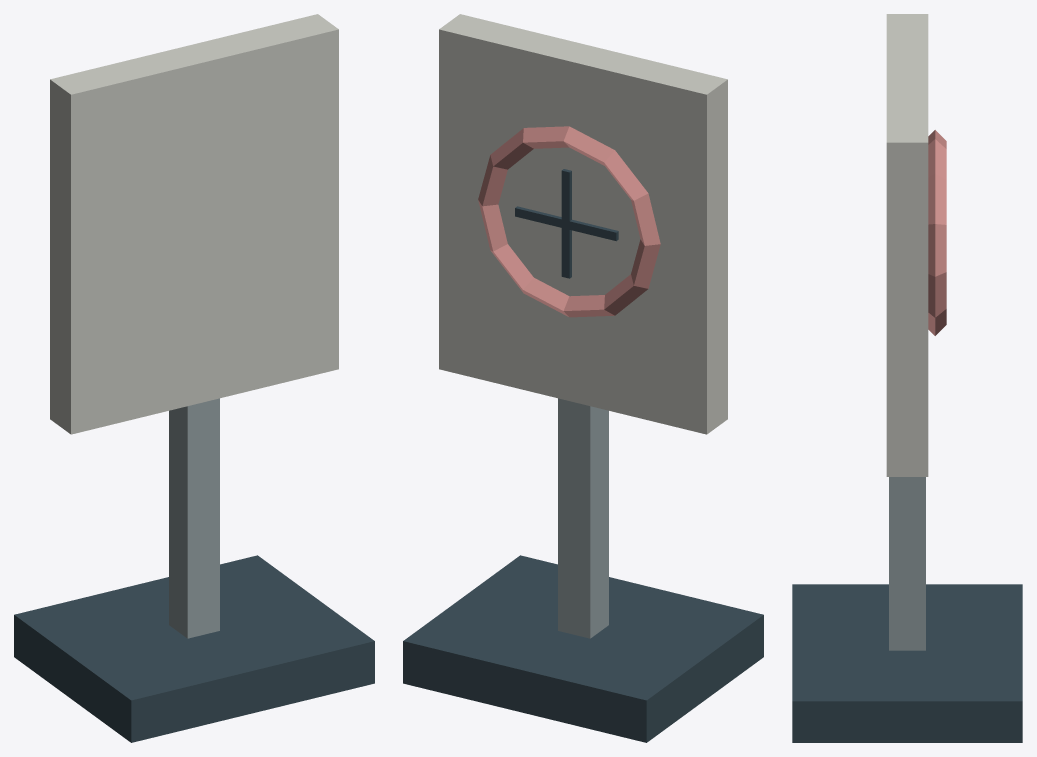
Rendered from target-low.glb.
3 views of the same model, side by side, from view 1: azimuth 30°, elevation 25°; view 2: azimuth 150°, elevation 25°; view 3: azimuth 270°, elevation 25° (orthographic).
Parts seen in each view (by area): view 1: asset_target__FP_Baked; view 2: asset_target__FP_Baked; view 3: asset_target__FP_Baked.
Part boxes in pixels (bbox=[...]): asset_target__FP_Baked: bbox=[14, 14, 374, 742]; asset_target__FP_Baked: bbox=[403, 14, 763, 742]; asset_target__FP_Baked: bbox=[792, 14, 1022, 742].
Bounding box in the file's own units: 0.66 × 1.45 × 0.5.
